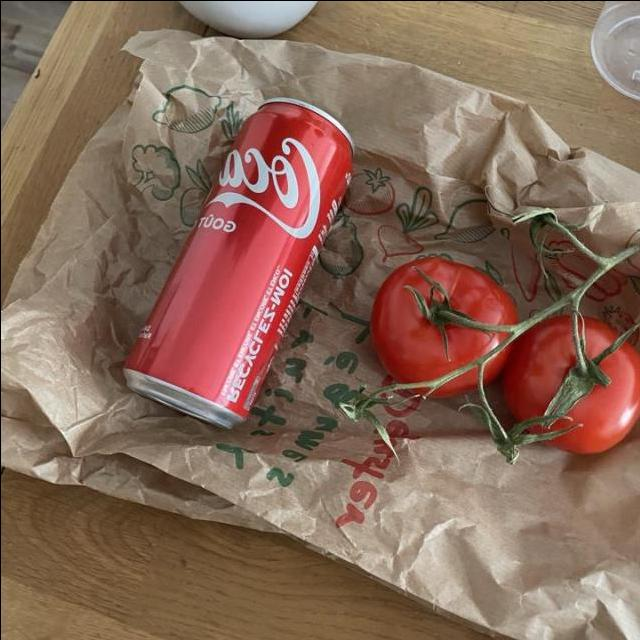can: (122, 90, 358, 430)
